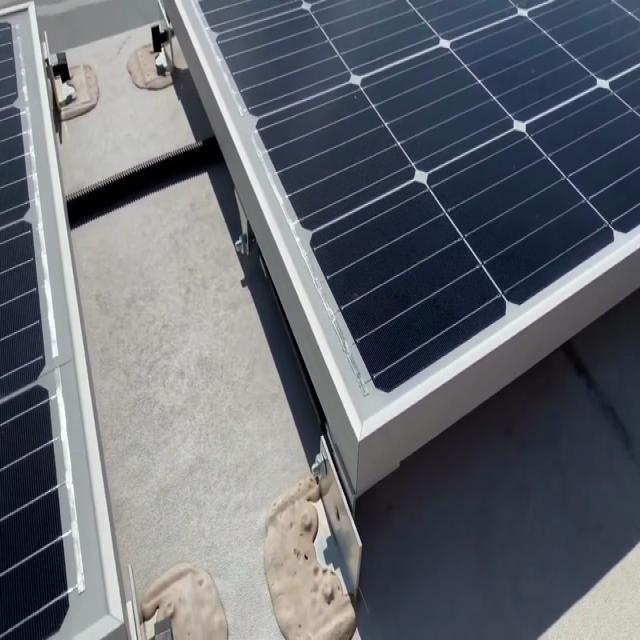Normal Solar Panel: (175, 0, 640, 437), (0, 0, 121, 640)
